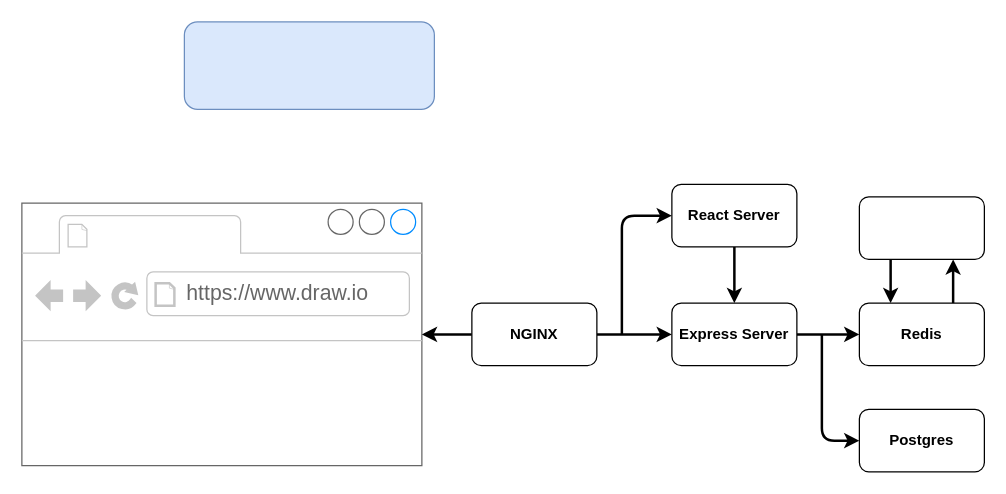
This 1006x494 diagram has some shape labels left out. The box of each missing label's shape, as (x1, y1, x2, y2) in pixels:
Development: (183, 21, 434, 109)
Page 1: (96, 217, 234, 251)
Worker: (858, 196, 984, 259)
